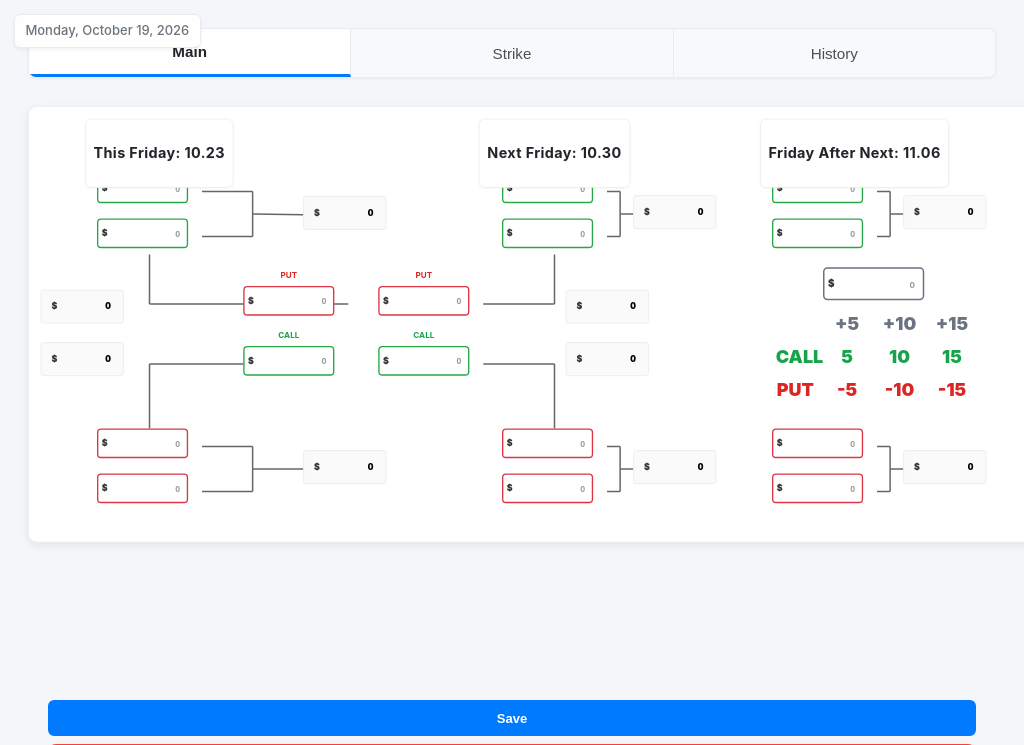
Test: App Integration Tests › Complete Input-to-Output Flow › should handle cross-column input dependencies
# Input values
Type "30" into the 1st field with placeholder "0".
click(143, 233); type("30")  # box [97,218,188,248]
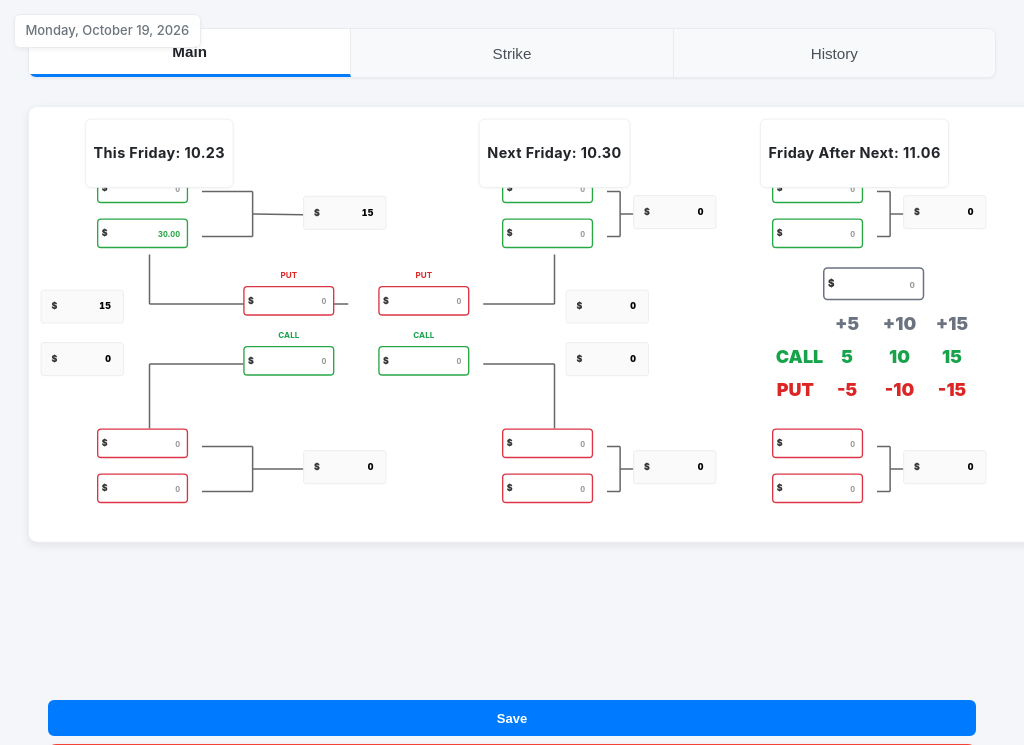
Type "50" into the 4th field with placeholder "0".
click(289, 301); type("50")  # box [243,286,334,316]
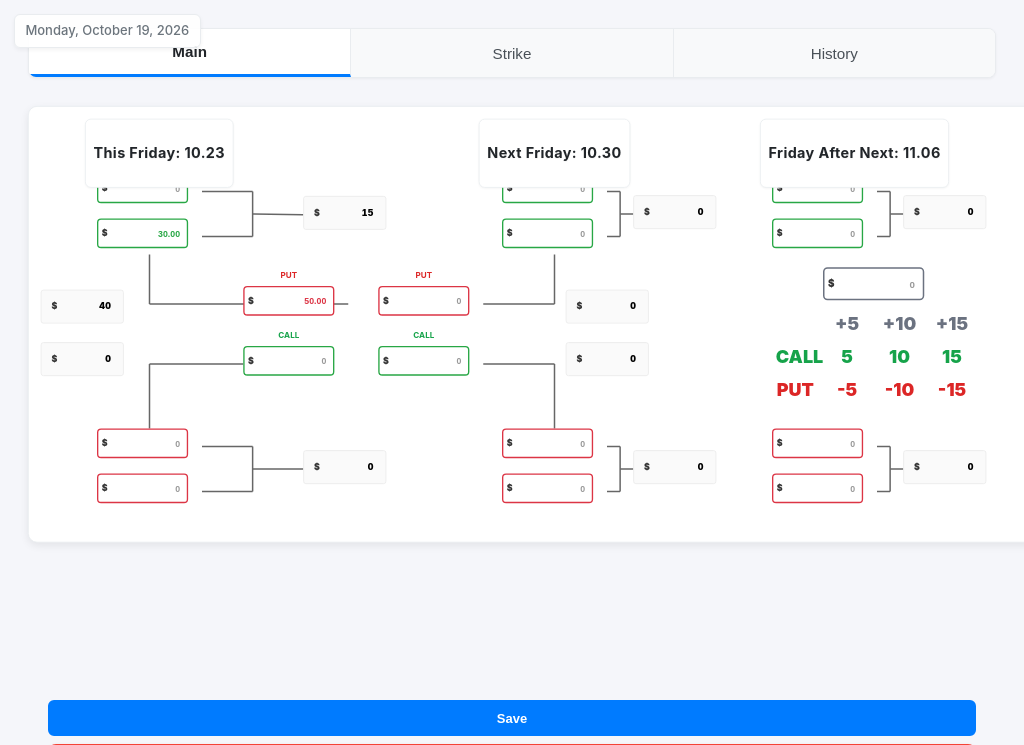
Now the text with class "average-value" reads "40", box [99,301,111,312]
